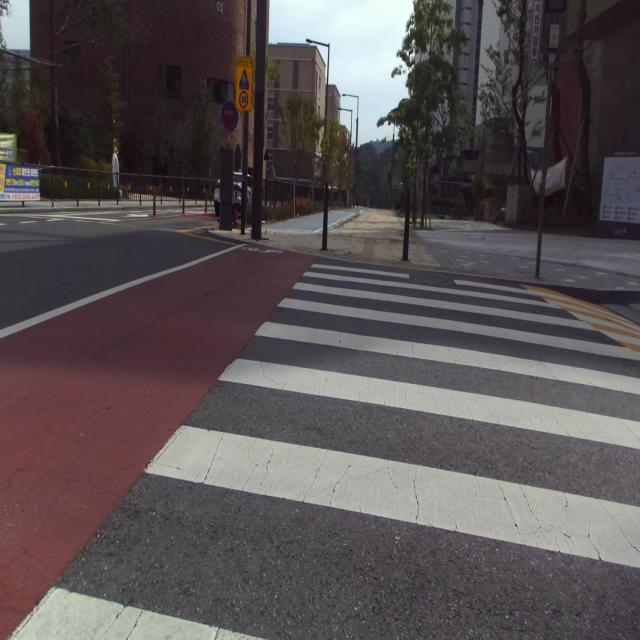횡단보도: (9, 263, 640, 640)
